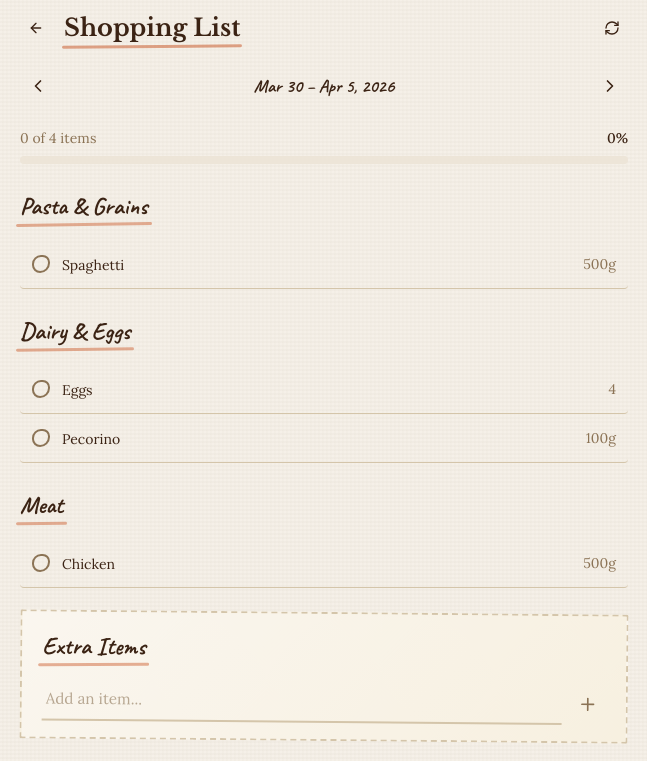
Test: Shopping List › S7: progress bar displays a count label (e.g., '2 of 4 items')
// Check 2 items
What coordinates should you click on to do the following:
click the text "Spaghetti"
I would click on:
 (93, 265)
Its box is [62,256,124,274].
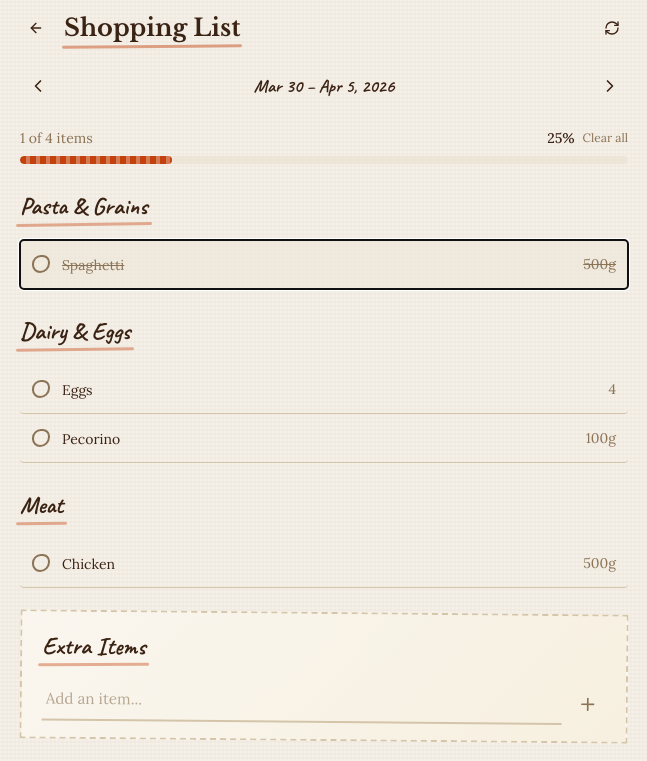
What coordinates should you click on to do the following:
click the text "Eggs"
I would click on:
 (77, 390)
Its box is [62,381,93,399].
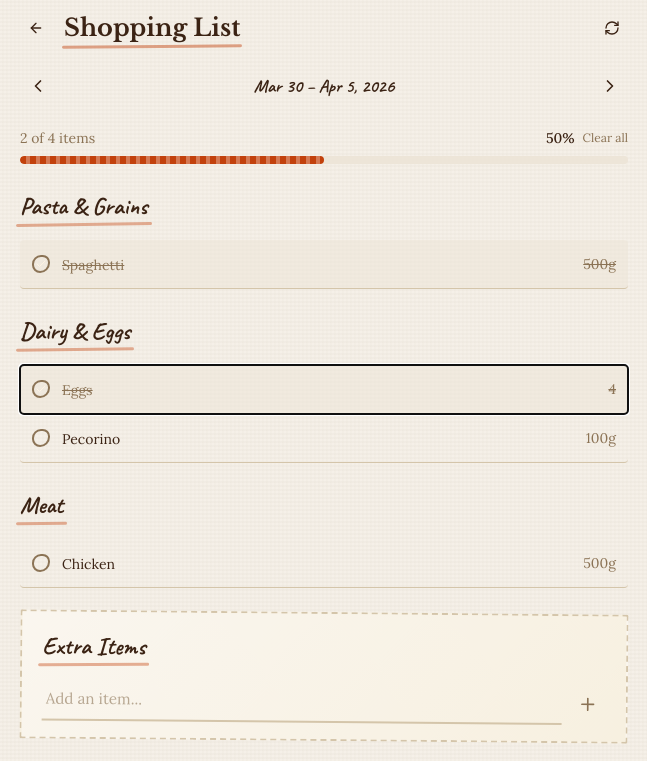
Check: the text "2 of 4 items" is shown, box [20,128,95,148]
